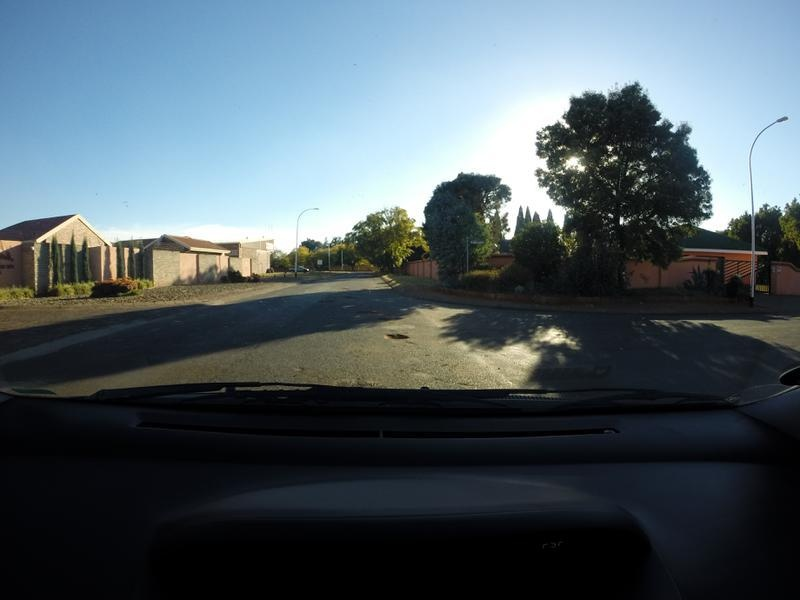pothole: (386, 330, 409, 344), (354, 307, 377, 317), (377, 313, 399, 323), (343, 291, 359, 298), (316, 296, 337, 301)
